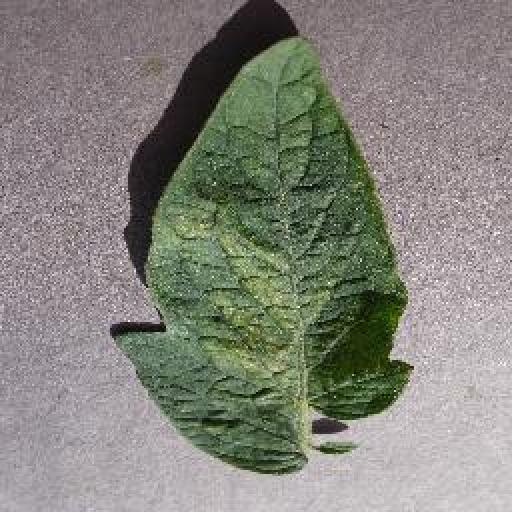Spider Mites: (112, 36, 417, 475)
